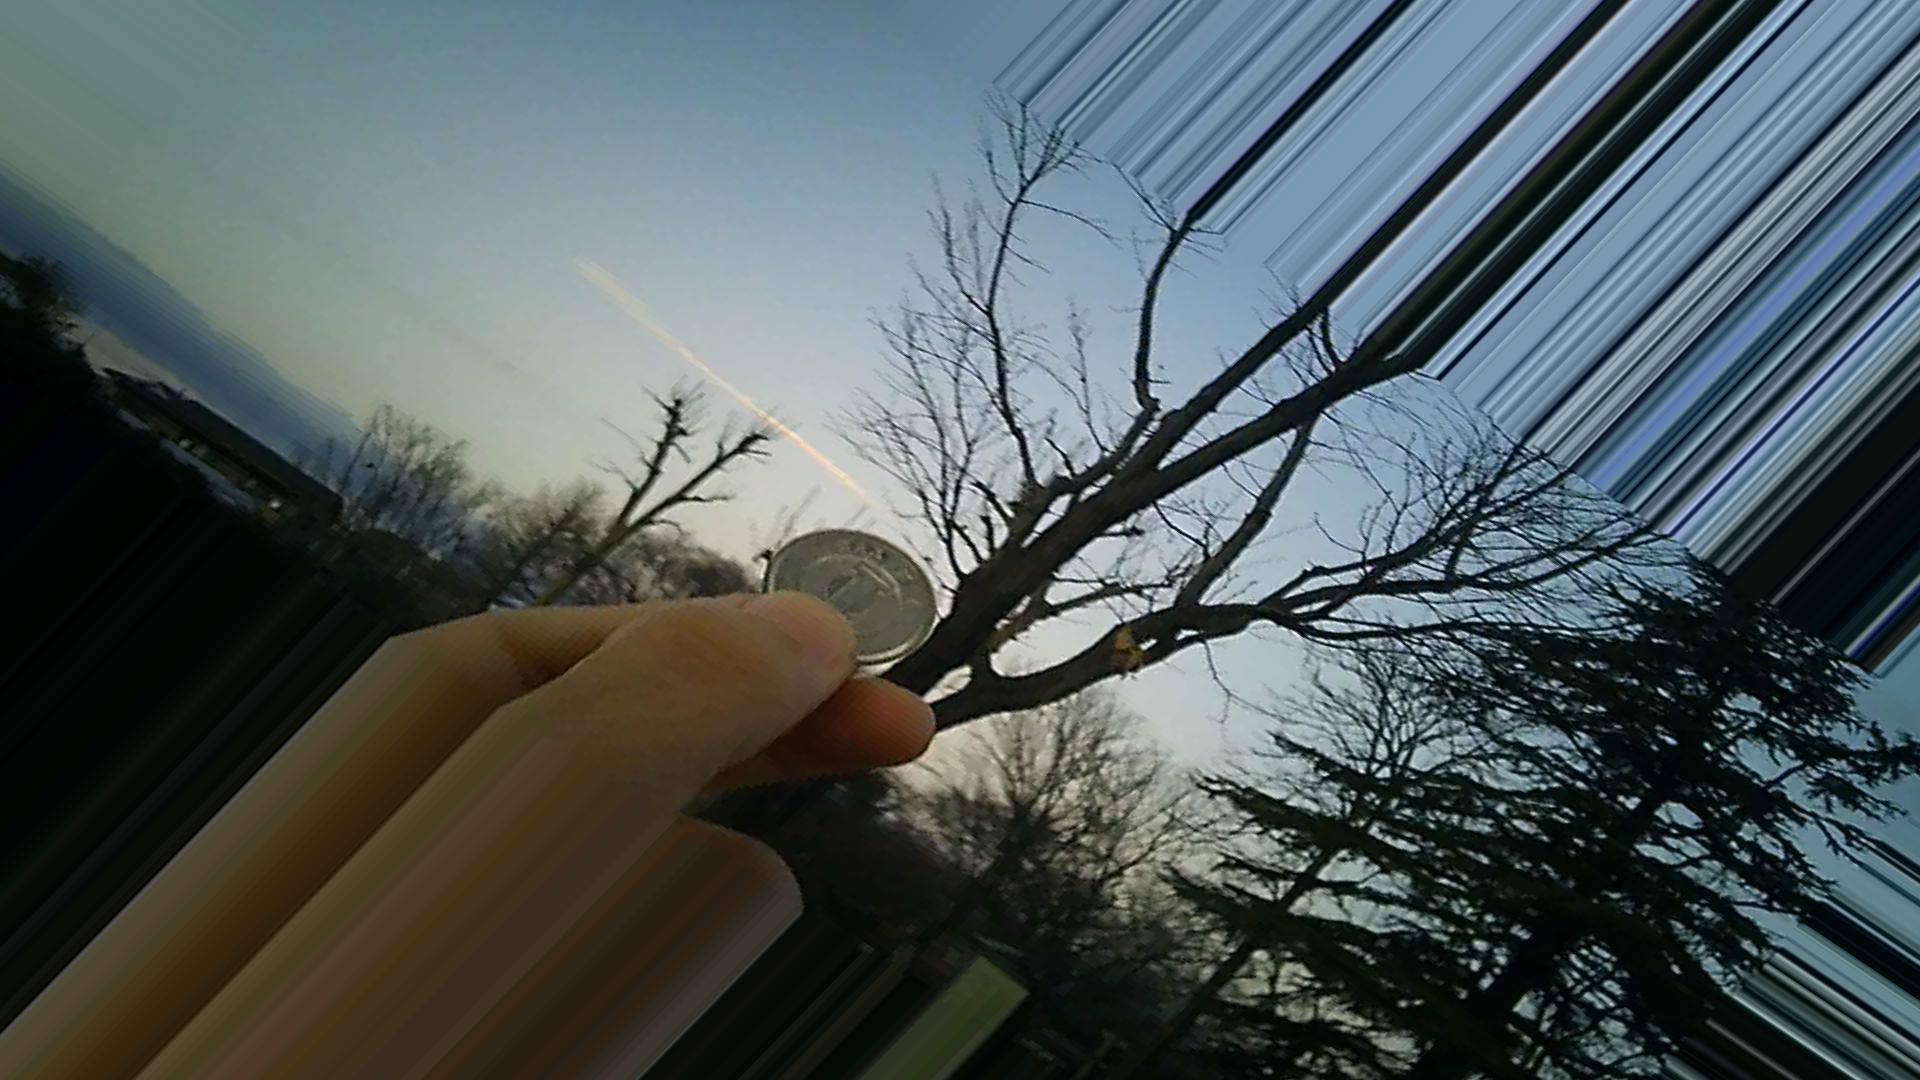1 Yen: (756, 513, 938, 655)
